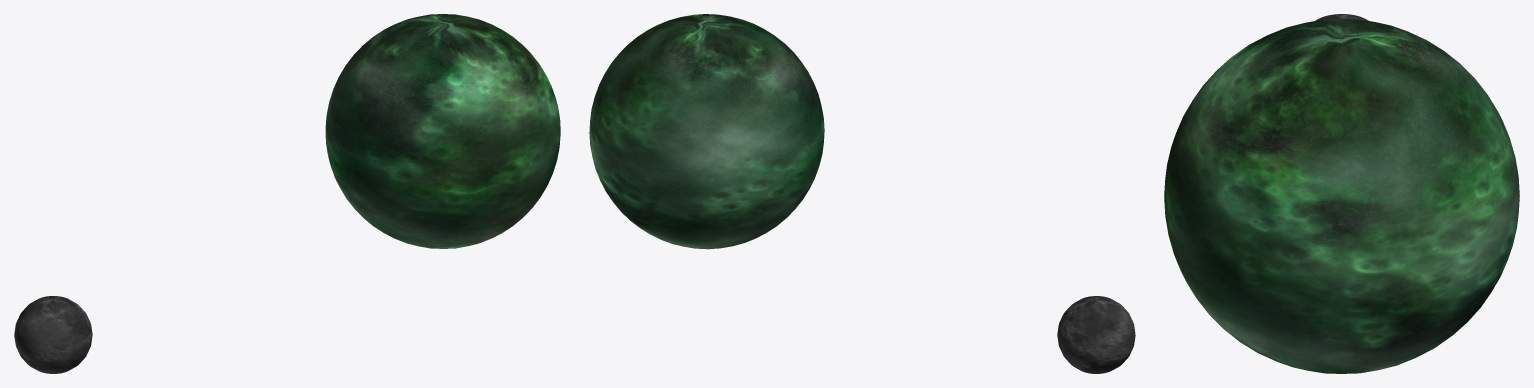
Rendered from planet_rimlit.fbx.
3 renders of one model, left to right at view 1: azimuth 30°, elevation 25°; view 2: azimuth 150°, elevation 25°; view 3: azimuth 270°, elevation 25°, orthographic. The views are drawn at different scales.
Visible parts, largest first — view 1: planet_green, Moon; view 2: planet_green, Moon; view 3: planet_green.
Boxes of the visible parts, x1,y1,x2,y2 form: planet_green: (325, 14, 560, 248); Moon: (14, 296, 92, 373); planet_green: (589, 14, 824, 249); Moon: (1057, 296, 1135, 373); planet_green: (1164, 19, 1519, 373).
Bounding box in the file's own units: 12386 × 5646 × 4807.
